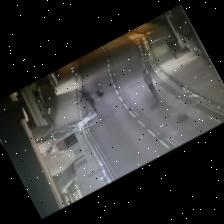person: (82, 90, 98, 114), (143, 71, 157, 96)
